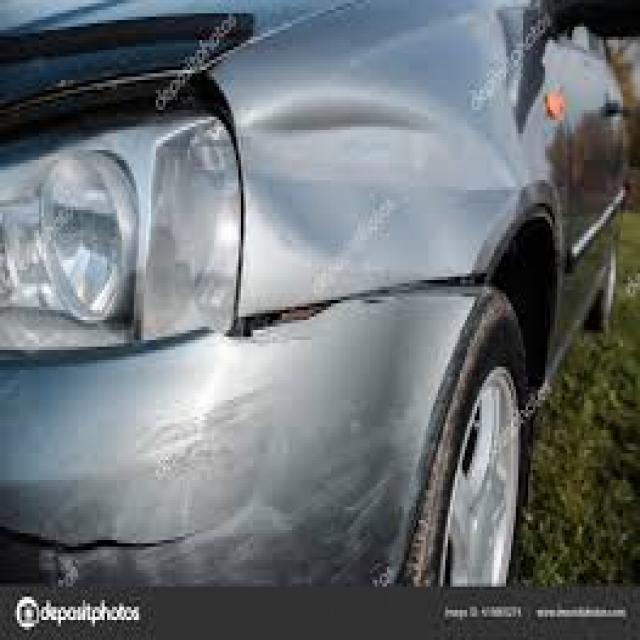dent-or-scratch: (236, 86, 502, 311), (94, 410, 408, 584)
